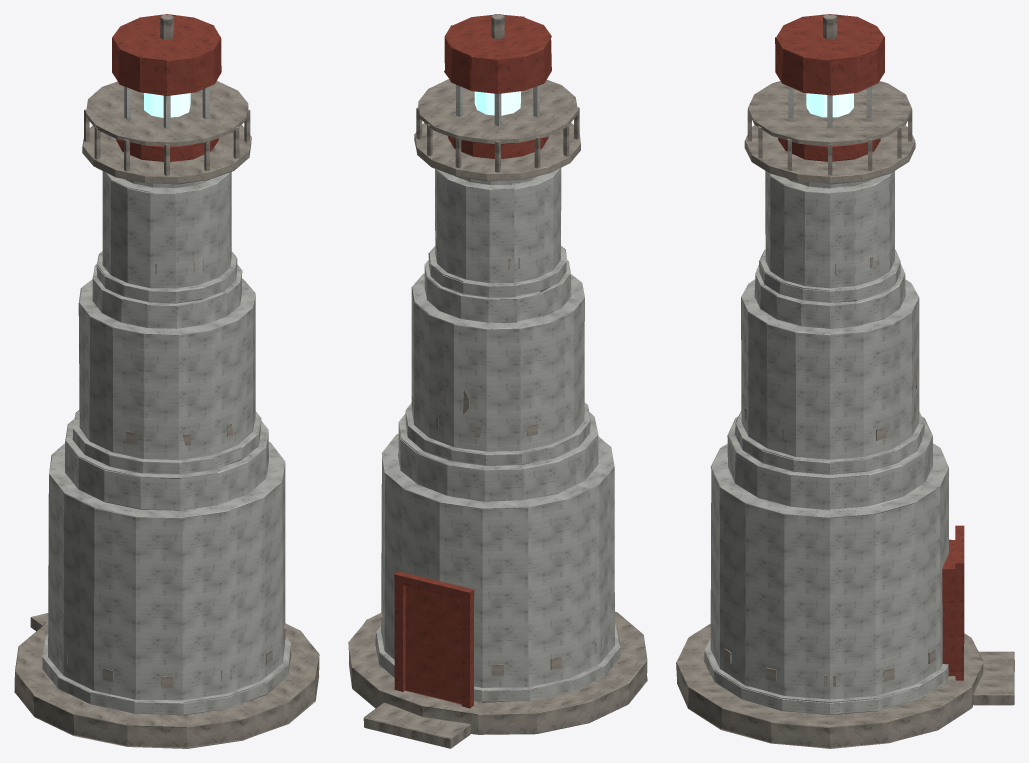
The model's file is thimble_lighthouse.glb.
The picture shows the model from 3 angles, left to right: view 1: azimuth 30°, elevation 25°; view 2: azimuth 150°, elevation 25°; view 3: azimuth 270°, elevation 25°; orthographic projection.
Visible parts, largest first — view 1: ThimbleLighthouse; view 2: ThimbleLighthouse; view 3: ThimbleLighthouse.
Part boxes in pixels (left/top/right/bottom): ThimbleLighthouse: left=14, top=14, right=319, bottom=748; ThimbleLighthouse: left=348, top=14, right=647, bottom=748; ThimbleLighthouse: left=676, top=14, right=1014, bottom=748.
Size of the model in its own units: 5.06 by 12.09 by 5.56.
4 materials, 3 textured.
